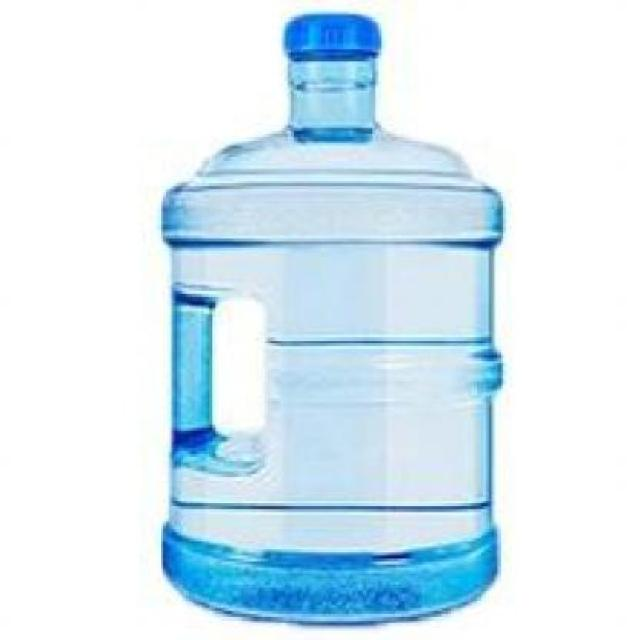coolerbottle: (150, 6, 512, 632)
